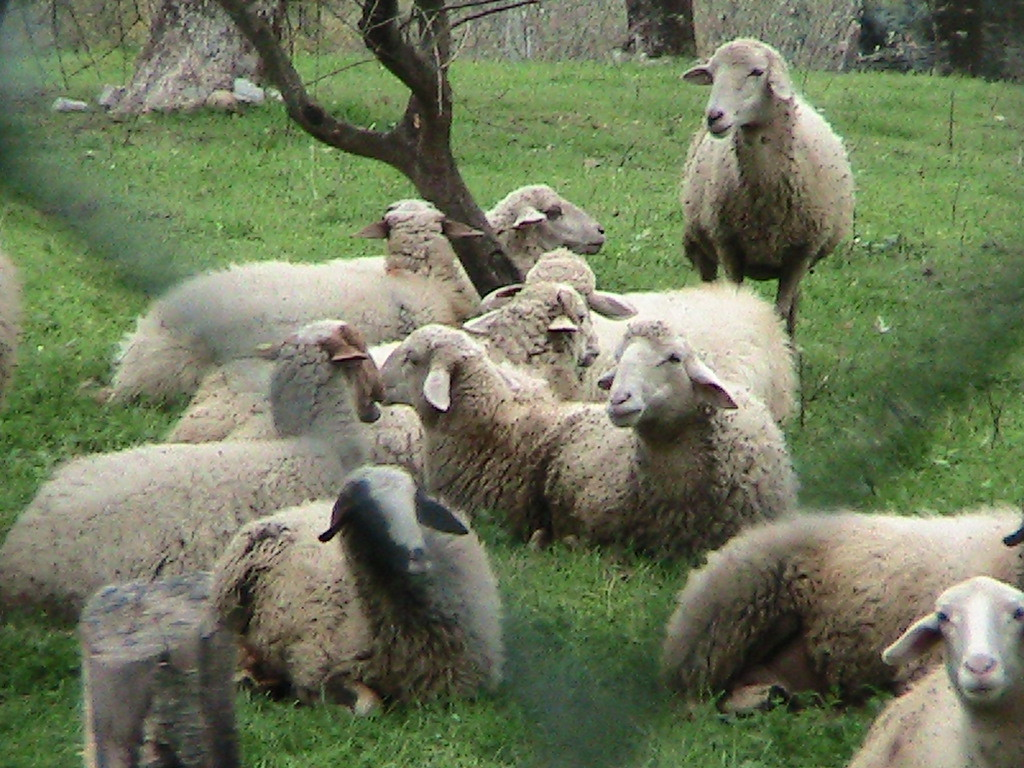Tree: (206, 0, 528, 304)
